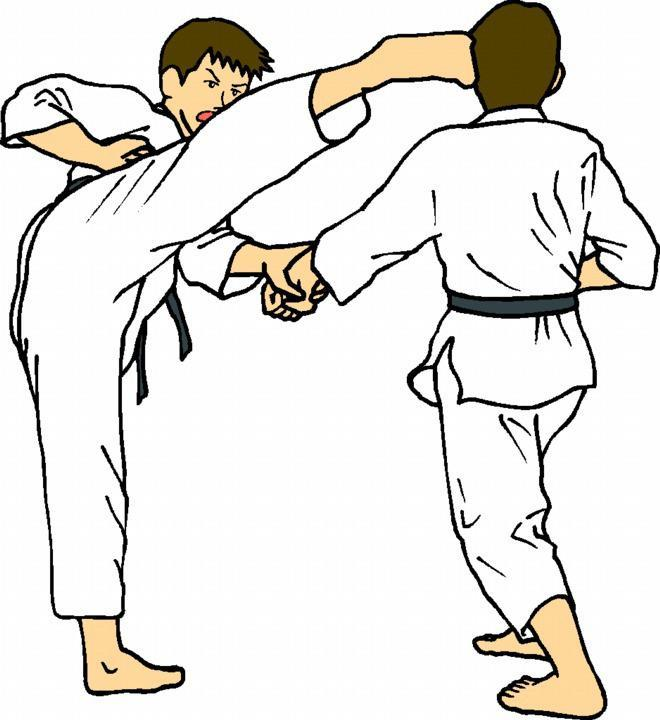person: (1, 18, 484, 697), (266, 2, 657, 718)
